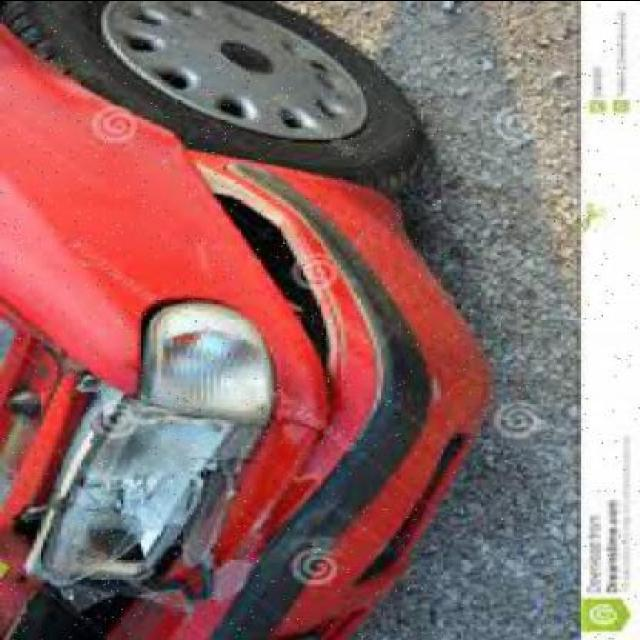Headlight-Damage: (43, 359, 260, 616)
front-bumper-dent: (200, 122, 464, 633)
